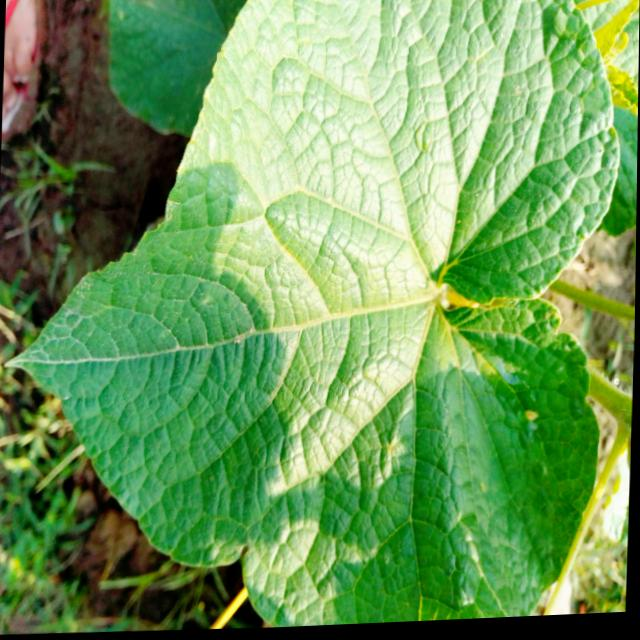Fresh-Leaf: (5, 0, 617, 627)
